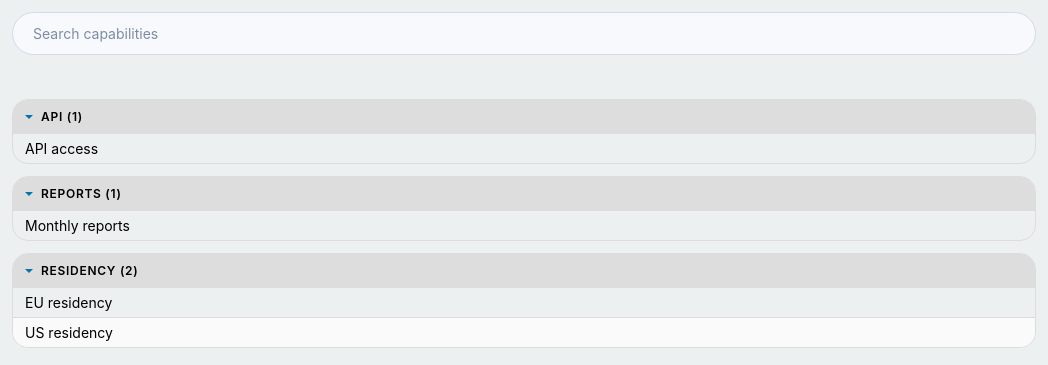
Scenario: CapabilityTree › collapses and re-expands a group on click
Click the button "residency (2)" at (79, 270), box [13,254,1035,288]
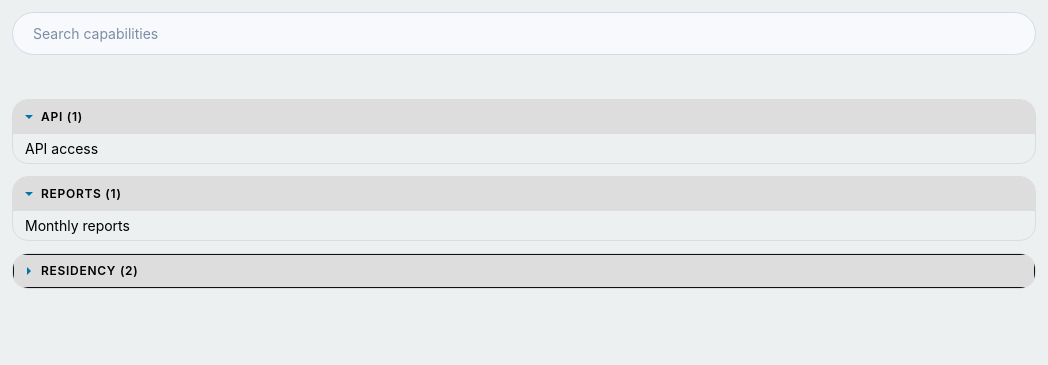
Expected: the text "EU residency" is gone
Click the button "residency (2)" at (79, 270), box [13,254,1035,288]
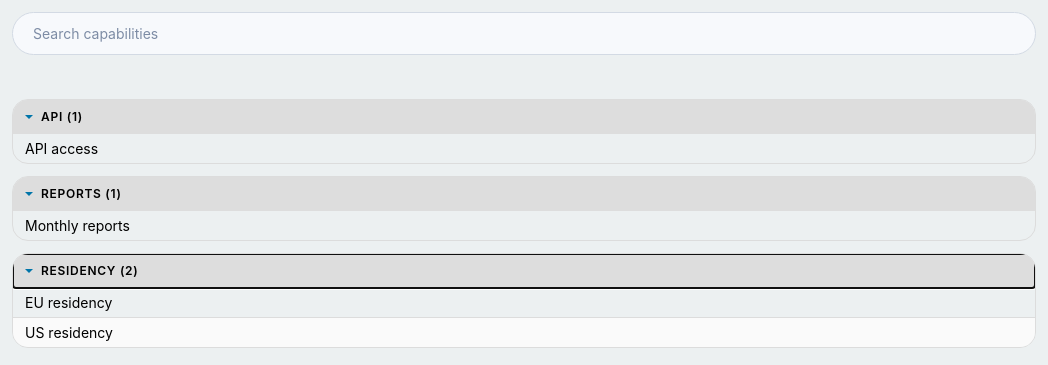
Expected: the text "EU residency" is shown, [25,292,112,313]
